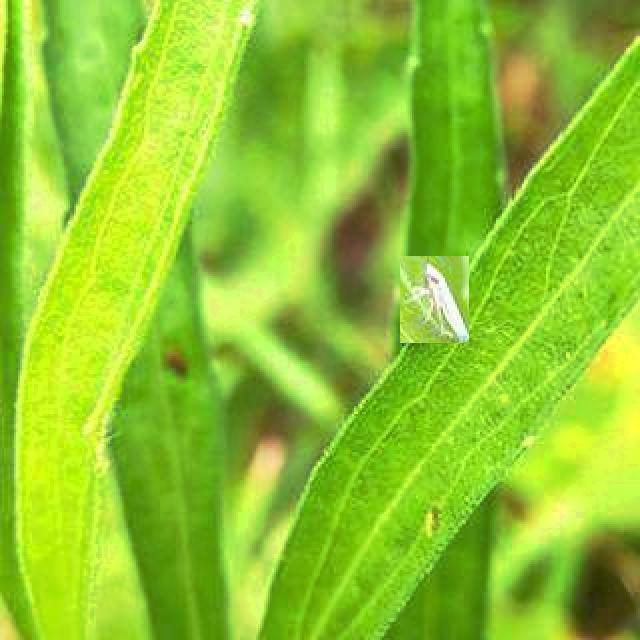green-leafhopper: (400, 256, 469, 343)
